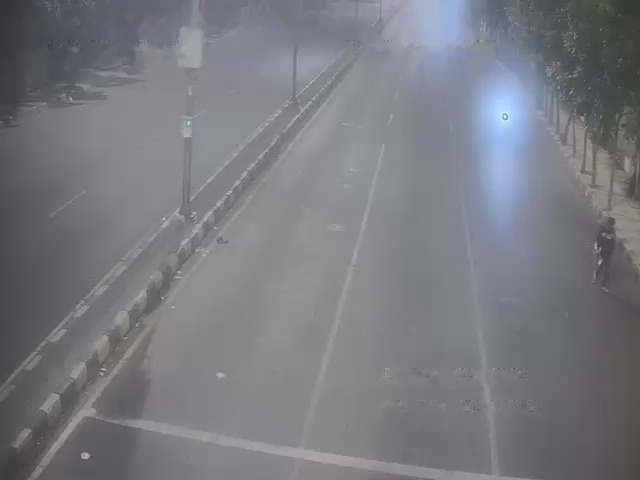Motor: (490, 102, 523, 129)
